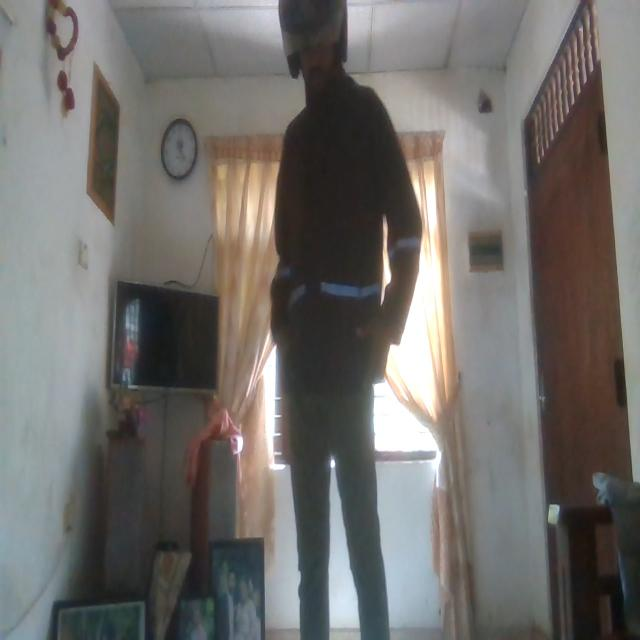Helmet_Wearer: (276, 0, 351, 92)
Jacket_Wearer: (277, 83, 421, 420)
Person: (264, 0, 427, 640)
